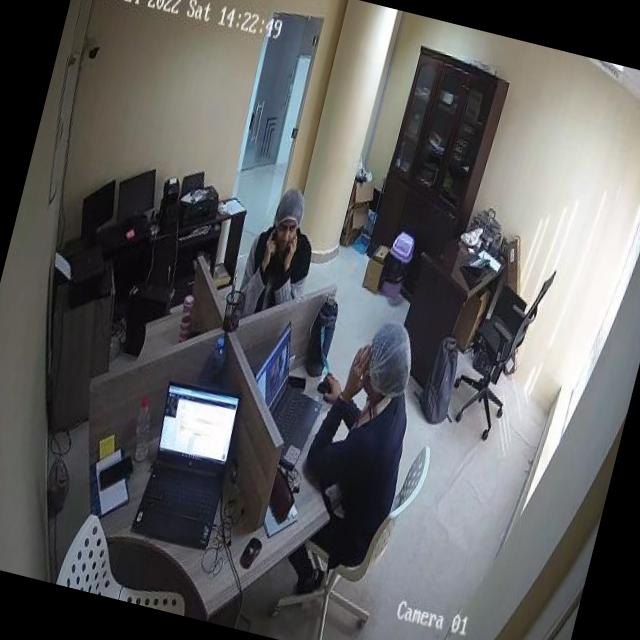hairnet: (364, 316, 424, 394), (273, 184, 309, 224)
